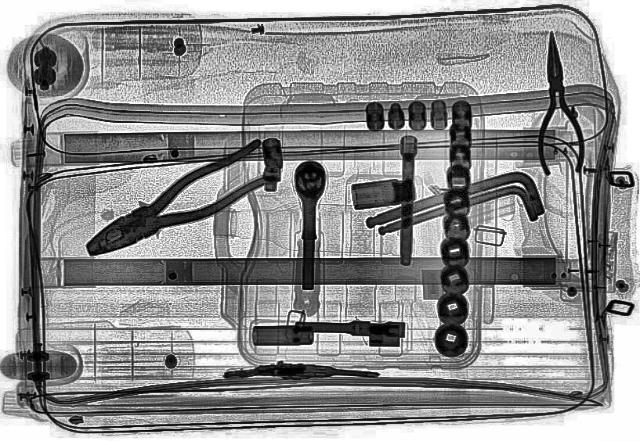Gun: (224, 361, 382, 379)
Pliers: (64, 136, 298, 268), (528, 30, 586, 176)
